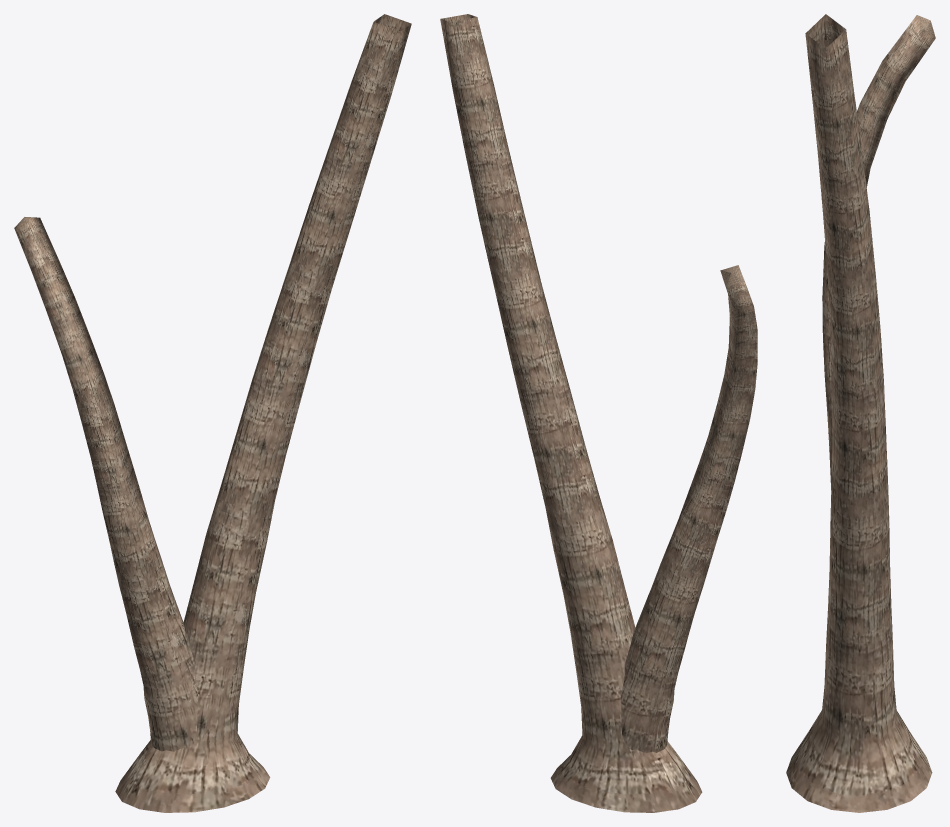
Rendered from m_palm_p2_25_trunk_0_lev2.glb.
3 renders of one model, left to right at view 1: azimuth 30°, elevation 25°; view 2: azimuth 150°, elevation 25°; view 3: azimuth 270°, elevation 25°, orthographic. The views are drawn at different scales.
Parts seen in each view (by area): view 1: m_palm_p2_25_trunk_0_lev2; view 2: m_palm_p2_25_trunk_0_lev2; view 3: m_palm_p2_25_trunk_0_lev2.
Part boxes in pixels (x1,y1,x2,y2): m_palm_p2_25_trunk_0_lev2: [14, 14, 411, 812]; m_palm_p2_25_trunk_0_lev2: [440, 14, 757, 812]; m_palm_p2_25_trunk_0_lev2: [786, 14, 935, 812].
Size of the model in its own units: 1.32 by 2.62 by 0.4166.
1 material, 1 textured.
